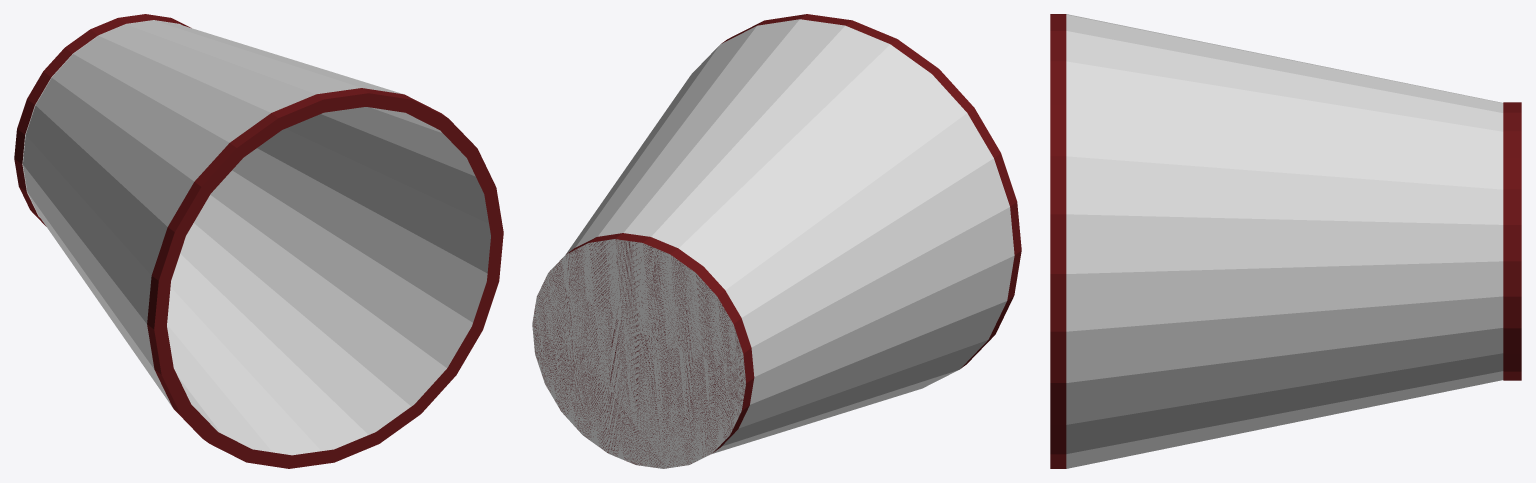
3 views of the same model, side by side, from view 1: azimuth 30°, elevation 25°; view 2: azimuth 150°, elevation 25°; view 3: azimuth 270°, elevation 25° (orthographic). The views are drawn at different scales.
Parts seen in each view (by area): view 1: trash; view 2: trash; view 3: trash.
Part boxes in pixels (bbox=[...]): trash: bbox=[14, 14, 503, 468]; trash: bbox=[532, 14, 1021, 468]; trash: bbox=[1050, 14, 1521, 468].
Bounding box in the file's own units: 1631 × 1631 × 1680.
